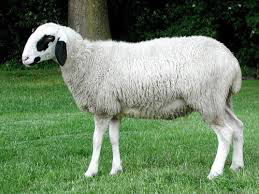koyun: (22, 18, 245, 180)
